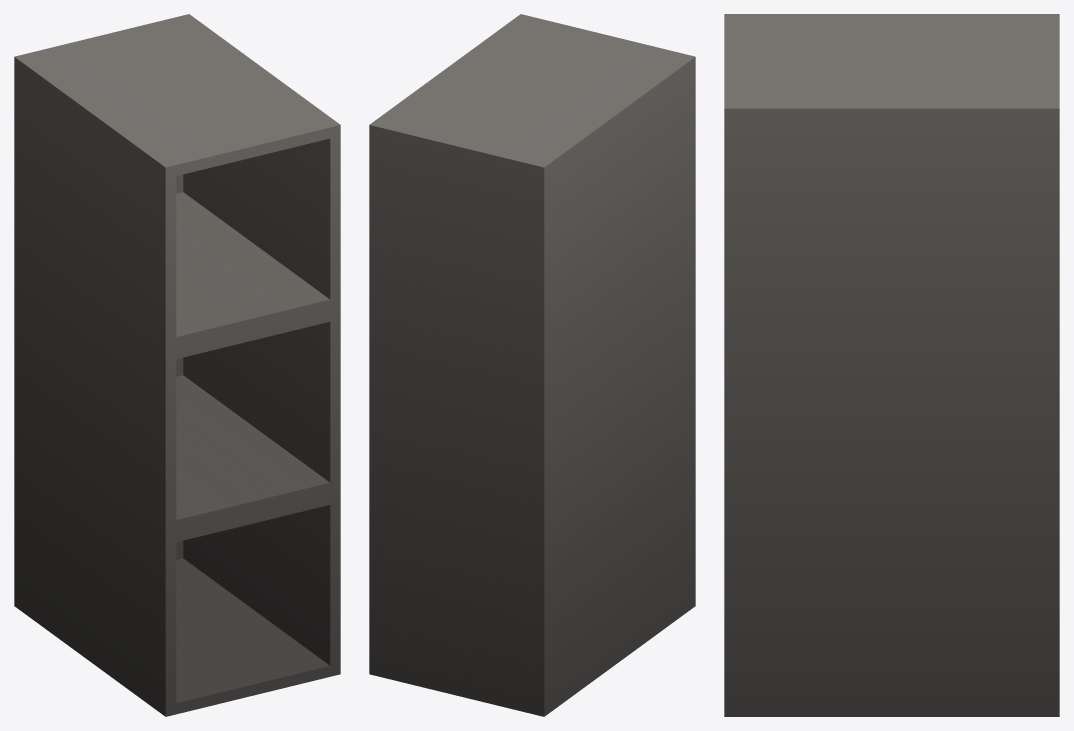
The model's file is FilingCabinetThreeStack_Case.fbx.
3 renders of one model, left to right at view 1: azimuth 30°, elevation 25°; view 2: azimuth 150°, elevation 25°; view 3: azimuth 270°, elevation 25°, orthographic. The views are drawn at different scales.
Visible parts, largest first — view 1: FilingCabinetThreeStack_Case; view 2: FilingCabinetThreeStack_Case; view 3: FilingCabinetThreeStack_Case.
Part boxes in pixels (x1,y1,x2,y2): FilingCabinetThreeStack_Case: [14, 14, 340, 716]; FilingCabinetThreeStack_Case: [369, 14, 695, 716]; FilingCabinetThreeStack_Case: [724, 14, 1059, 716].
Size of the model in its own units: 37.98 by 114 by 56.97.
